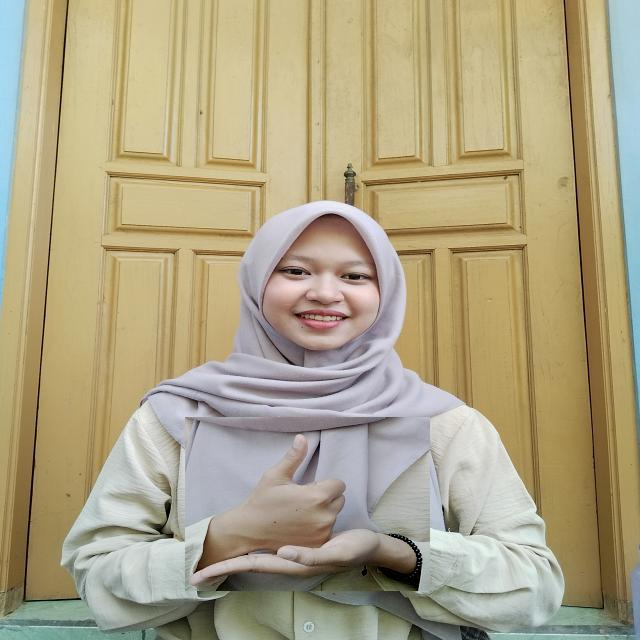cantik: (185, 417, 430, 591)
